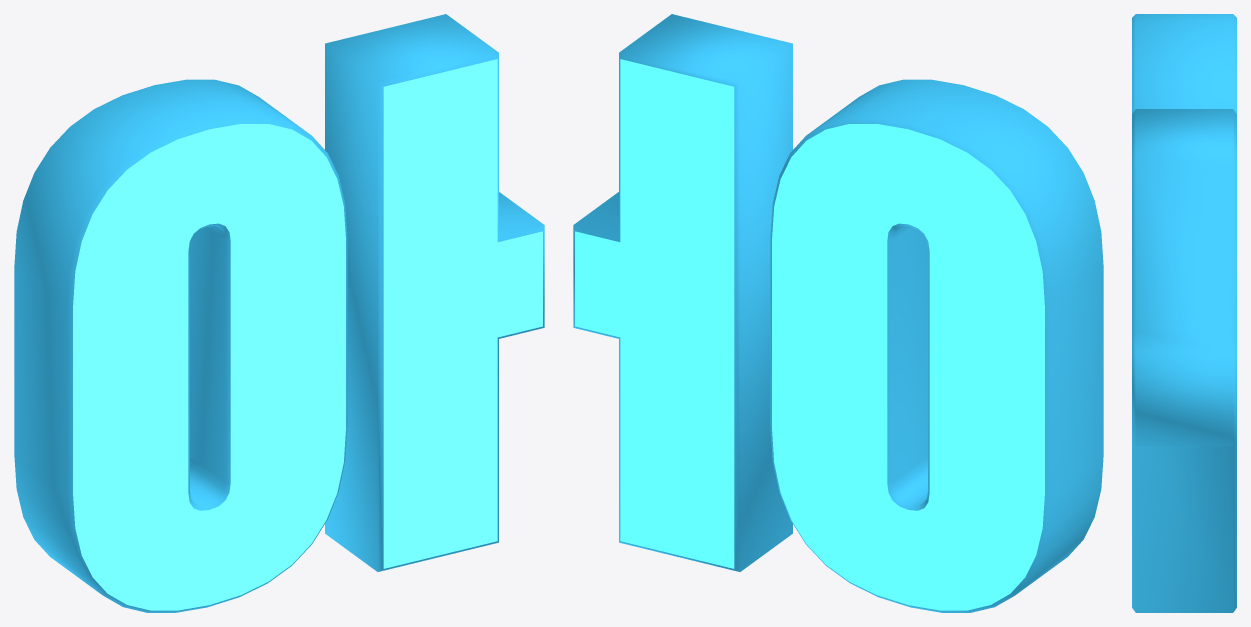
The picture shows the model from 3 angles, left to right: view 1: azimuth 30°, elevation 25°; view 2: azimuth 150°, elevation 25°; view 3: azimuth 270°, elevation 25°; orthographic projection. The views are drawn at different scales.
Parts seen in each view (by area): view 1: glyph; view 2: glyph; view 3: glyph.
Part boxes in pixels (x1,y1,x2,y2): glyph: [14, 14, 544, 612]; glyph: [573, 14, 1103, 612]; glyph: [1132, 14, 1236, 612].
Size of the model in its own units: 0.0781 by 0.0766 by 0.0162.
